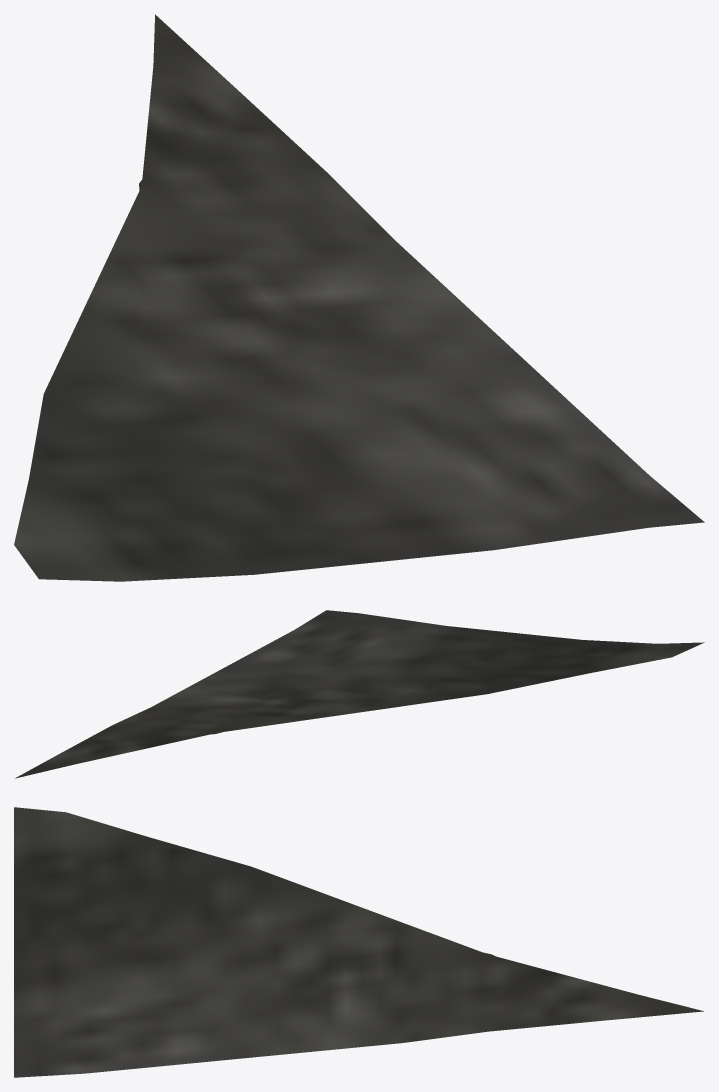
3 views of the same model, one above another, from view 1: azimuth 30°, elevation 25°; view 2: azimuth 150°, elevation 25°; view 3: azimuth 270°, elevation 25° (orthographic). The views are drawn at different scales.
Bounding box in the file's own units: 0.3619 × 0.0549 × 0.5176.
Materials: 1 (1 with a texture image).
